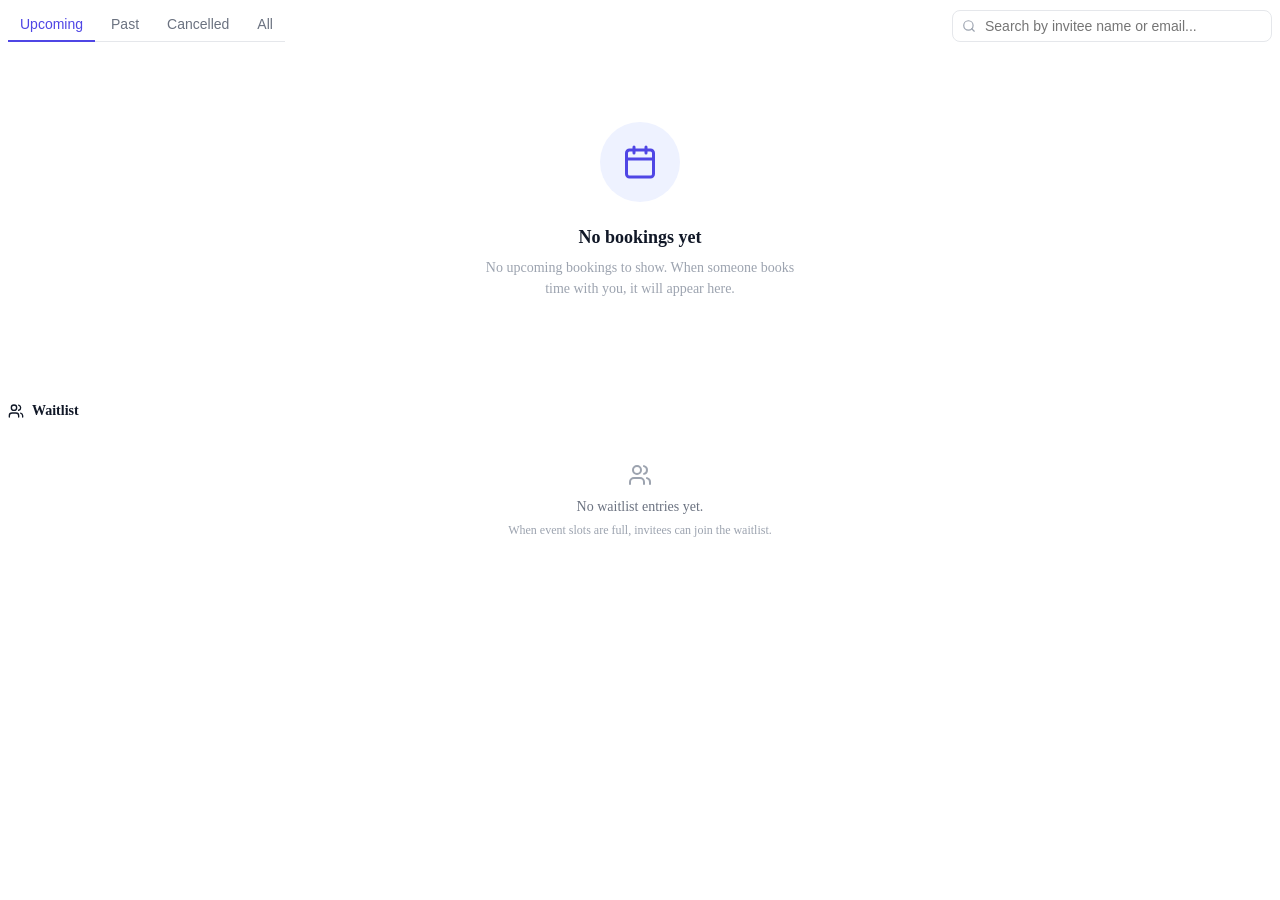
BookingsPage › filters bookings by search query
Note: Switch to All first to see all bookings
Click the button "All" at (265, 25), box 245,8 -> 285,42
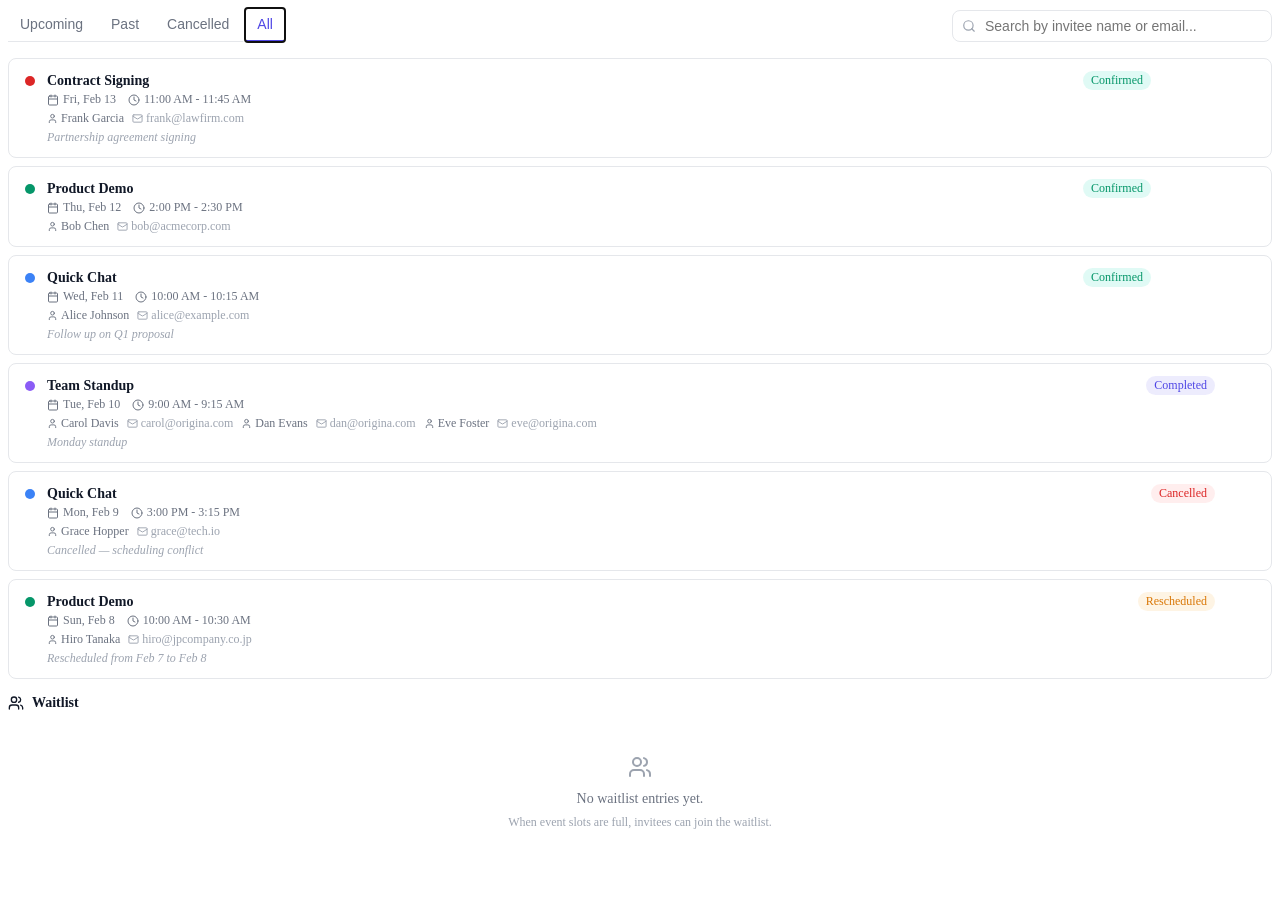
Type "Alice" into the field named "Search bookings" at (1112, 26), box 952,10 -> 1272,42
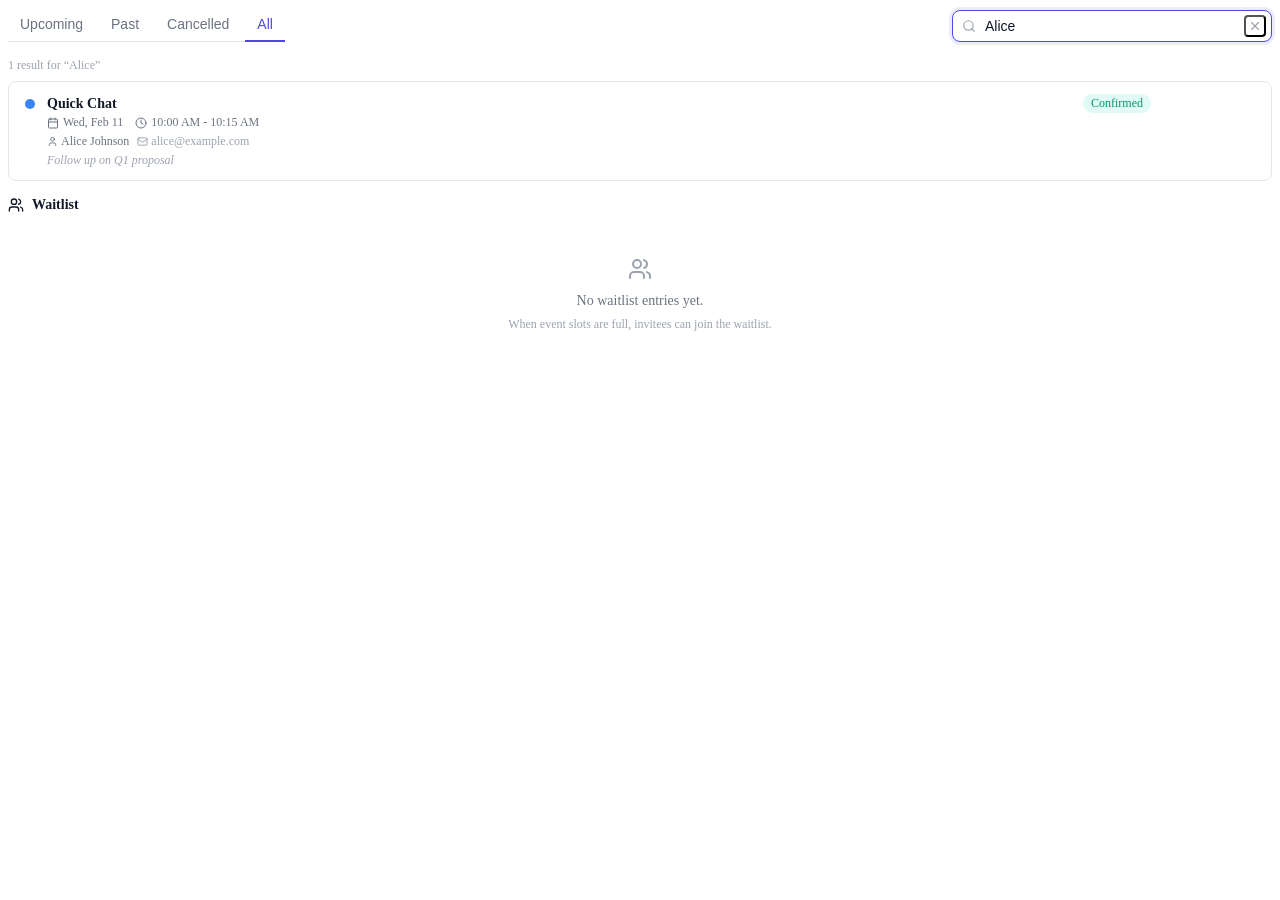
Expected: the text "Alice Johnson" is shown, 47,134 -> 129,149
Expected: the text "Bob Chen" is gone
